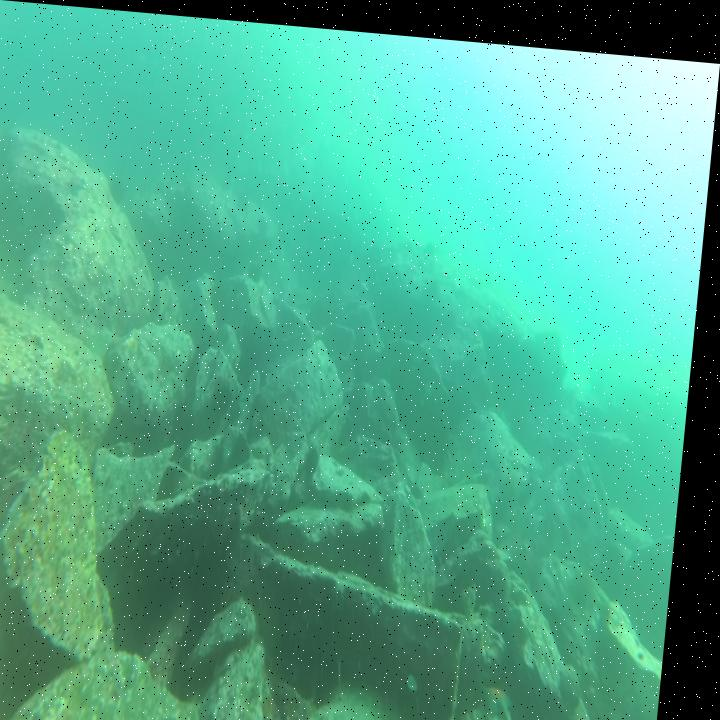echinus: (310, 433, 331, 479)
starfish: (489, 669, 528, 717)
